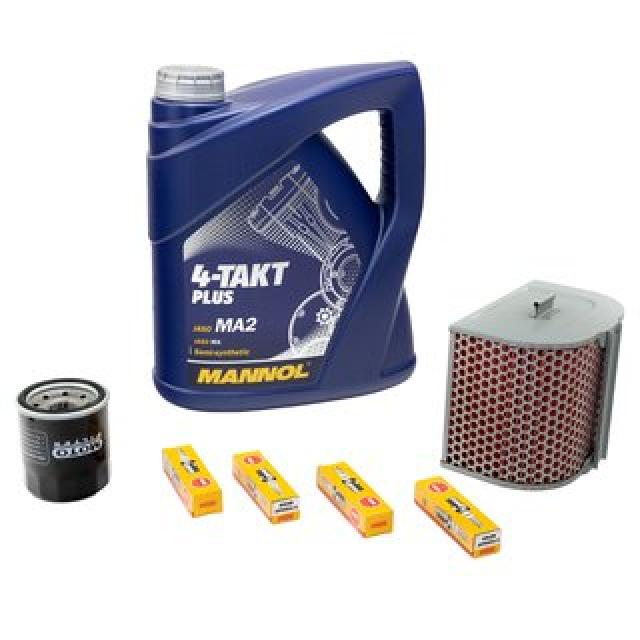motor_oil: (146, 51, 430, 413)
oil_filter: (435, 283, 631, 485), (13, 373, 117, 505)
